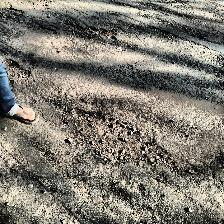pothole: (70, 106, 178, 174), (65, 22, 119, 44), (4, 57, 32, 84), (12, 0, 52, 12), (0, 0, 23, 18)
